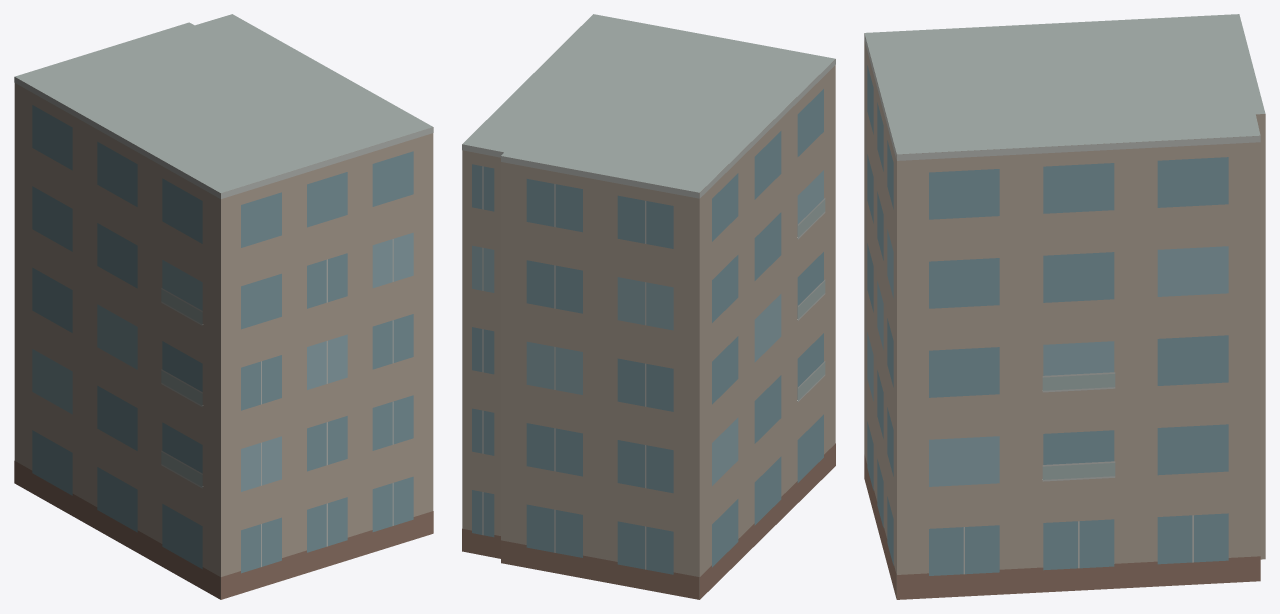
Rendered from survey-upis-32851242.glb.
3 renders of one model, left to right at view 1: azimuth 30°, elevation 25°; view 2: azimuth 150°, elevation 25°; view 3: azimuth 270°, elevation 25°, orthographic. The views are drawn at different scales.
Visible parts, largest first — view 1: survey-upis-32851242.tmp; view 2: survey-upis-32851242.tmp; view 3: survey-upis-32851242.tmp.
Boxes of the visible parts, x1,y1,x2,y2 form: survey-upis-32851242.tmp: [14, 14, 433, 599]; survey-upis-32851242.tmp: [462, 14, 835, 599]; survey-upis-32851242.tmp: [864, 14, 1265, 599].
Bounding box in the file's own units: 11.27 × 16.65 × 13.6.
